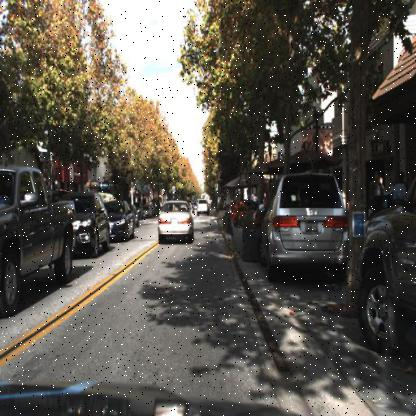car: (0, 164, 75, 317), (358, 174, 416, 355), (257, 170, 348, 285), (73, 189, 111, 262), (156, 200, 196, 244), (110, 197, 135, 247), (195, 197, 210, 217)
